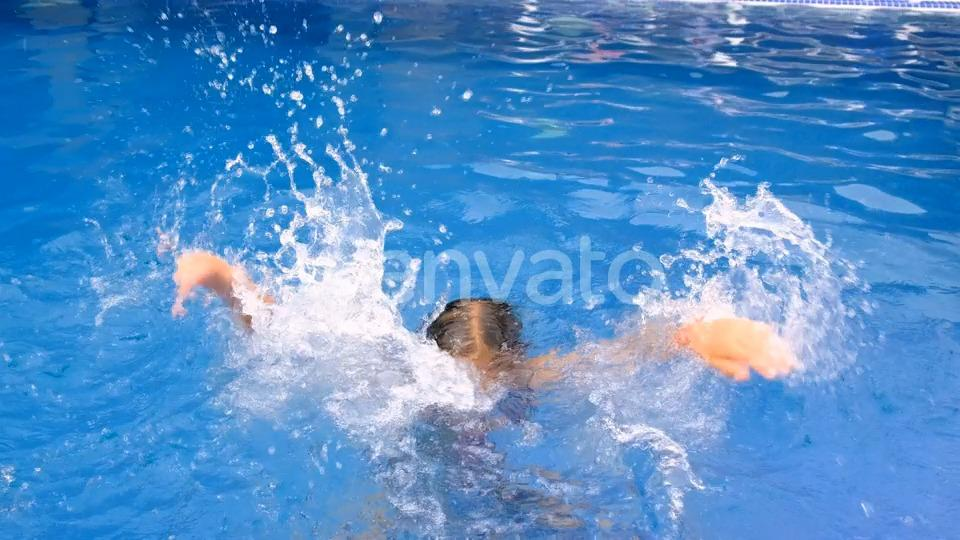Drowning: (78, 115, 857, 462)
